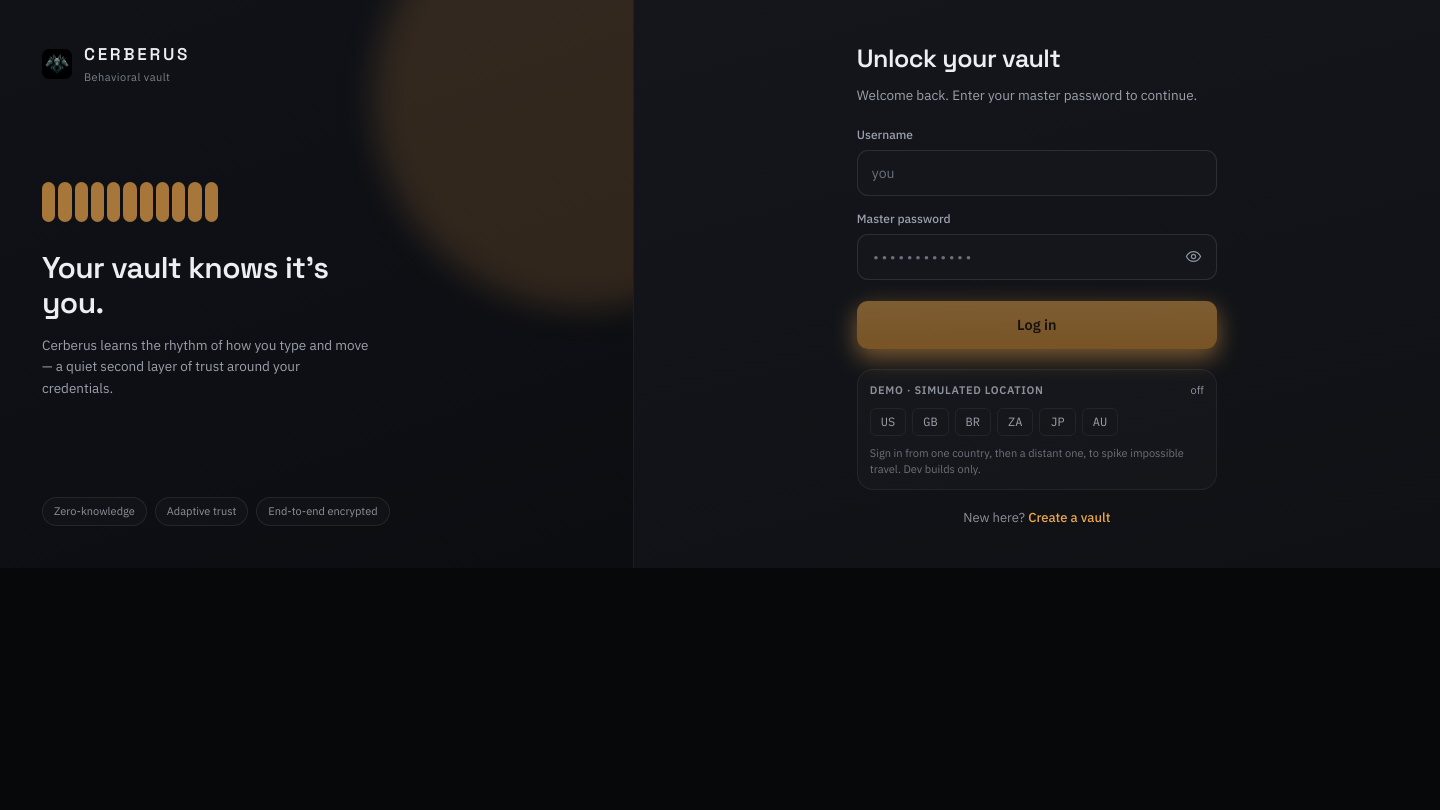
it: AuthScreen — distinct login outcomes (Part A) › 401 → "Incorrect username or master password"
Type "alice" into the field labelled "Username" at (1037, 173), box [857,150,1217,196]
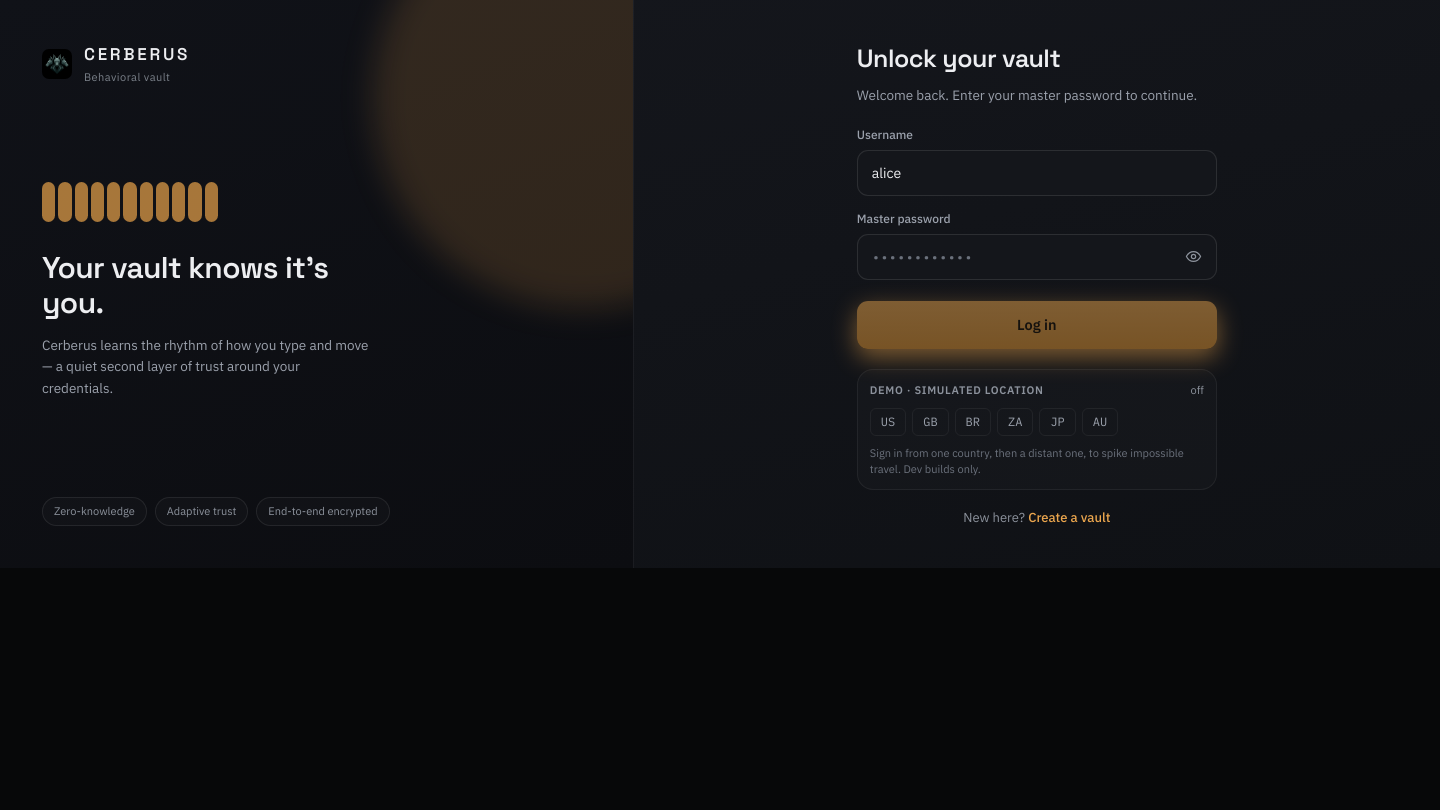
Type "master-pw" into the password field labelled "Master password" at (1037, 257), box [857,234,1217,280]
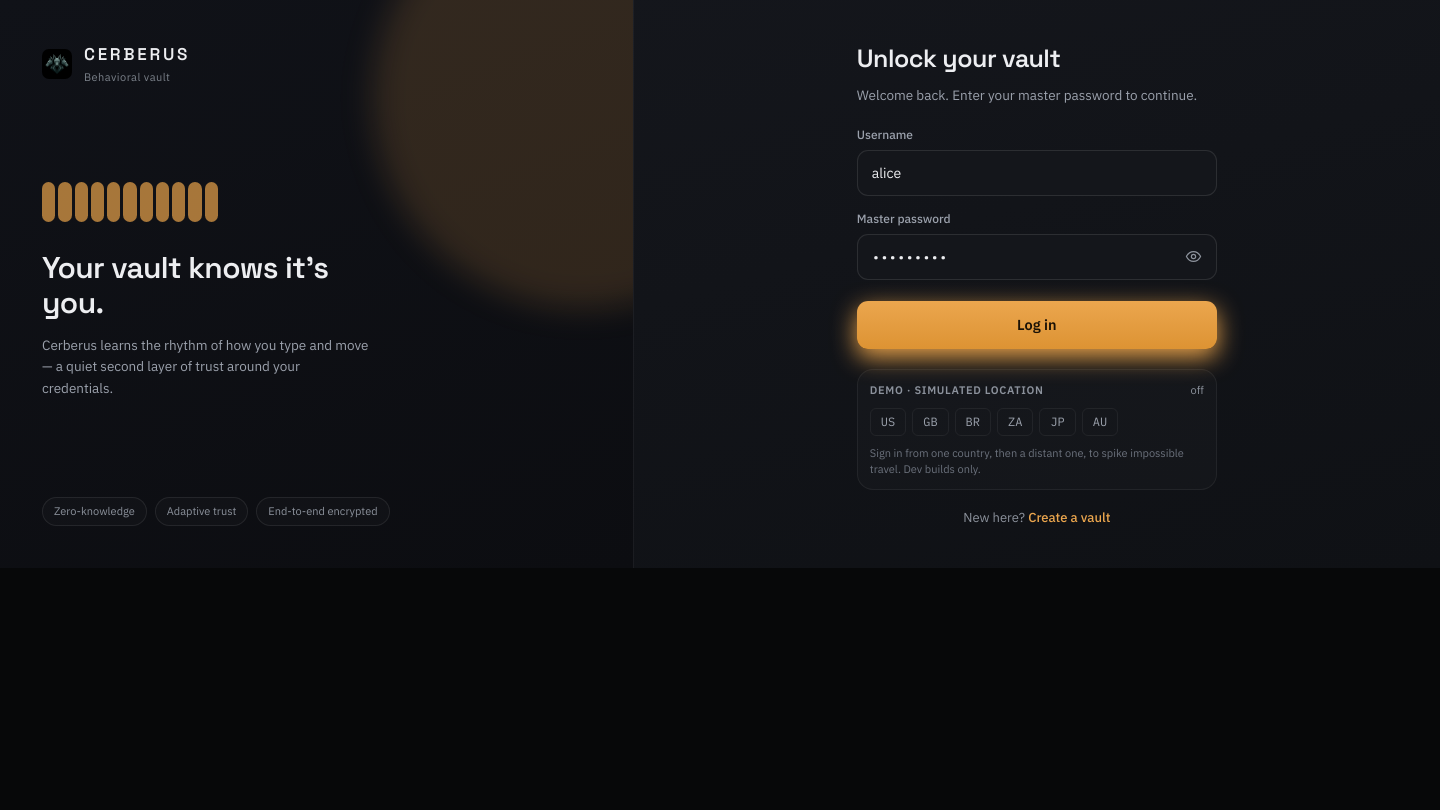
Click the button "Log in" at (1037, 325), box [857,301,1217,349]
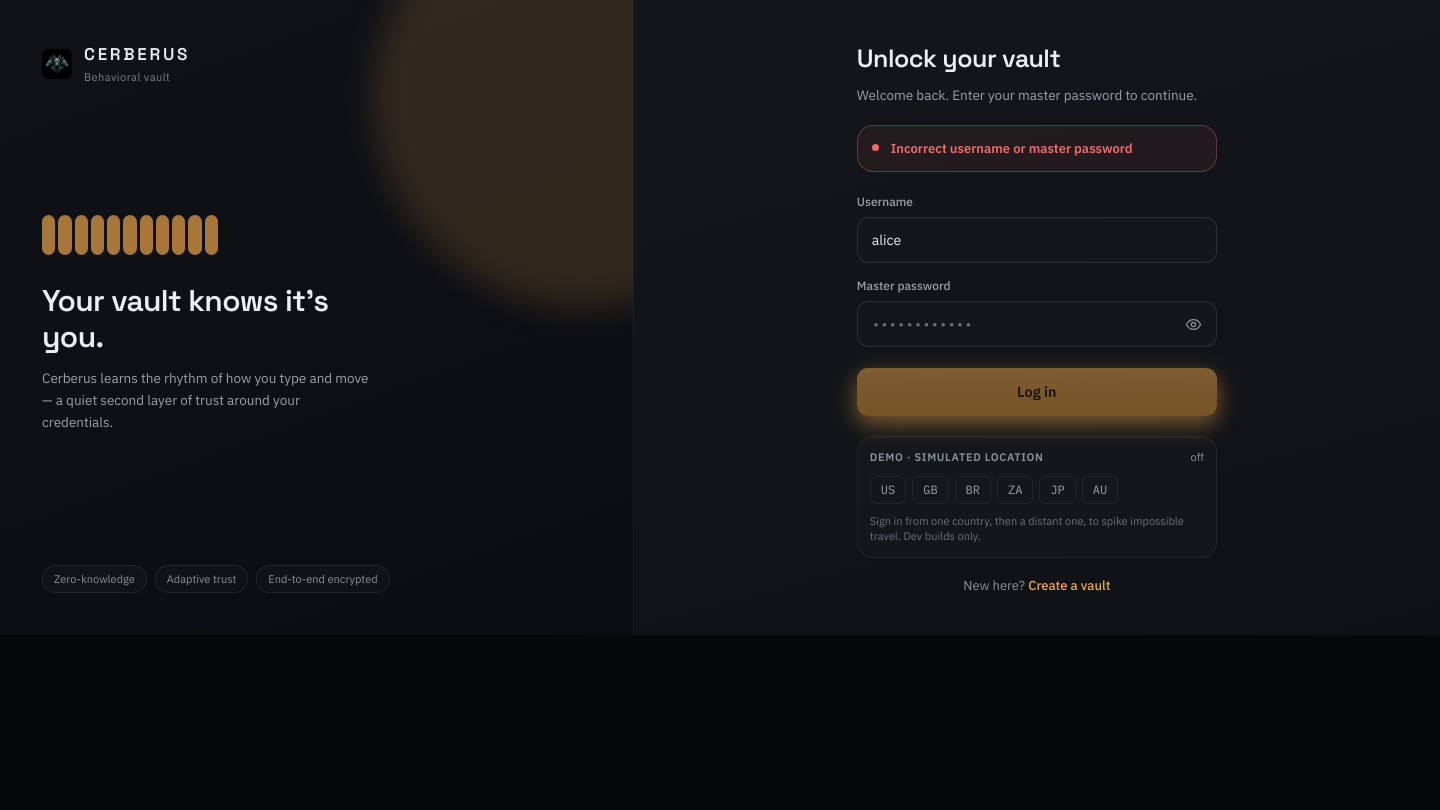
Result: the text "Incorrect username or master password" is shown at [891,139,1133,158]
